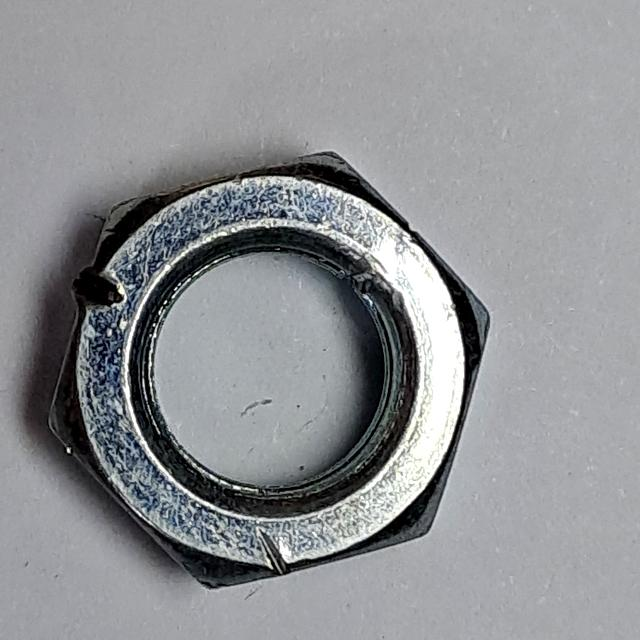Scratches: (42, 141, 514, 614)
